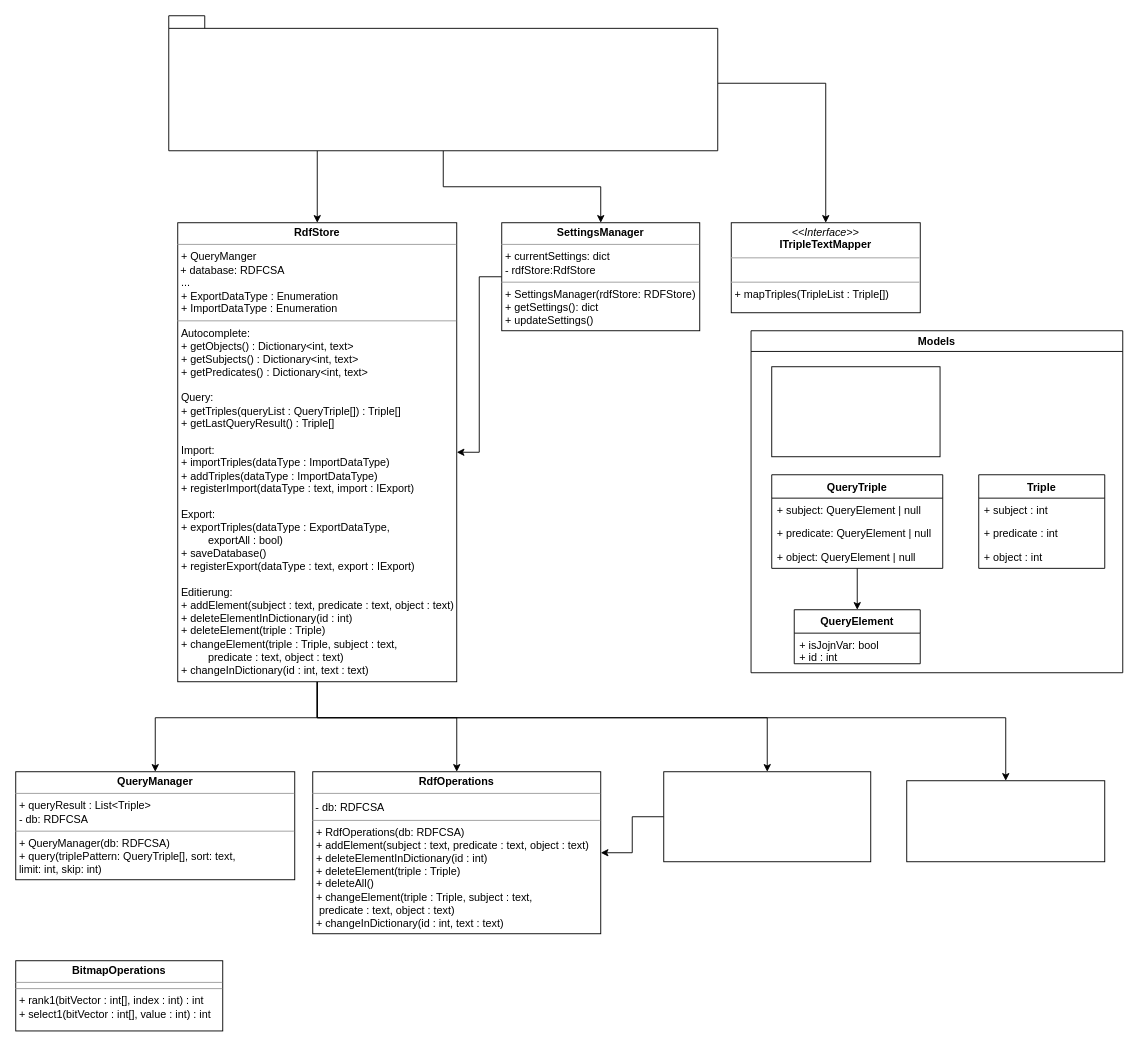
The diagram is 1139 pixels wide and 1047 high, and some of its shapes have lost their labels. Each missing label, with the centre of its shape:
<<Interface>> IExport + exportTriples(TripleList : Triple[]): the point at 1005,821
<<Interface>> IImport + importFromFile(file : file, replace : bool): the point at 767,816
frontend: the point at 443,83
RDFCSA + dictionary: Dictionary<int, text> + bitVector : int[] + psi : int[]: the point at 855,411
